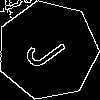J: (23, 25, 75, 73)
